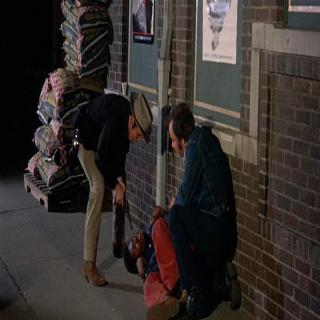gun: (112, 191, 134, 228)
